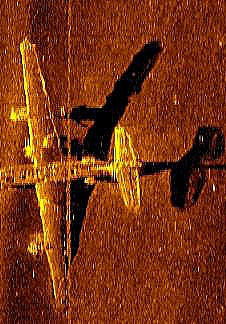aircraft: (1, 36, 143, 303)
